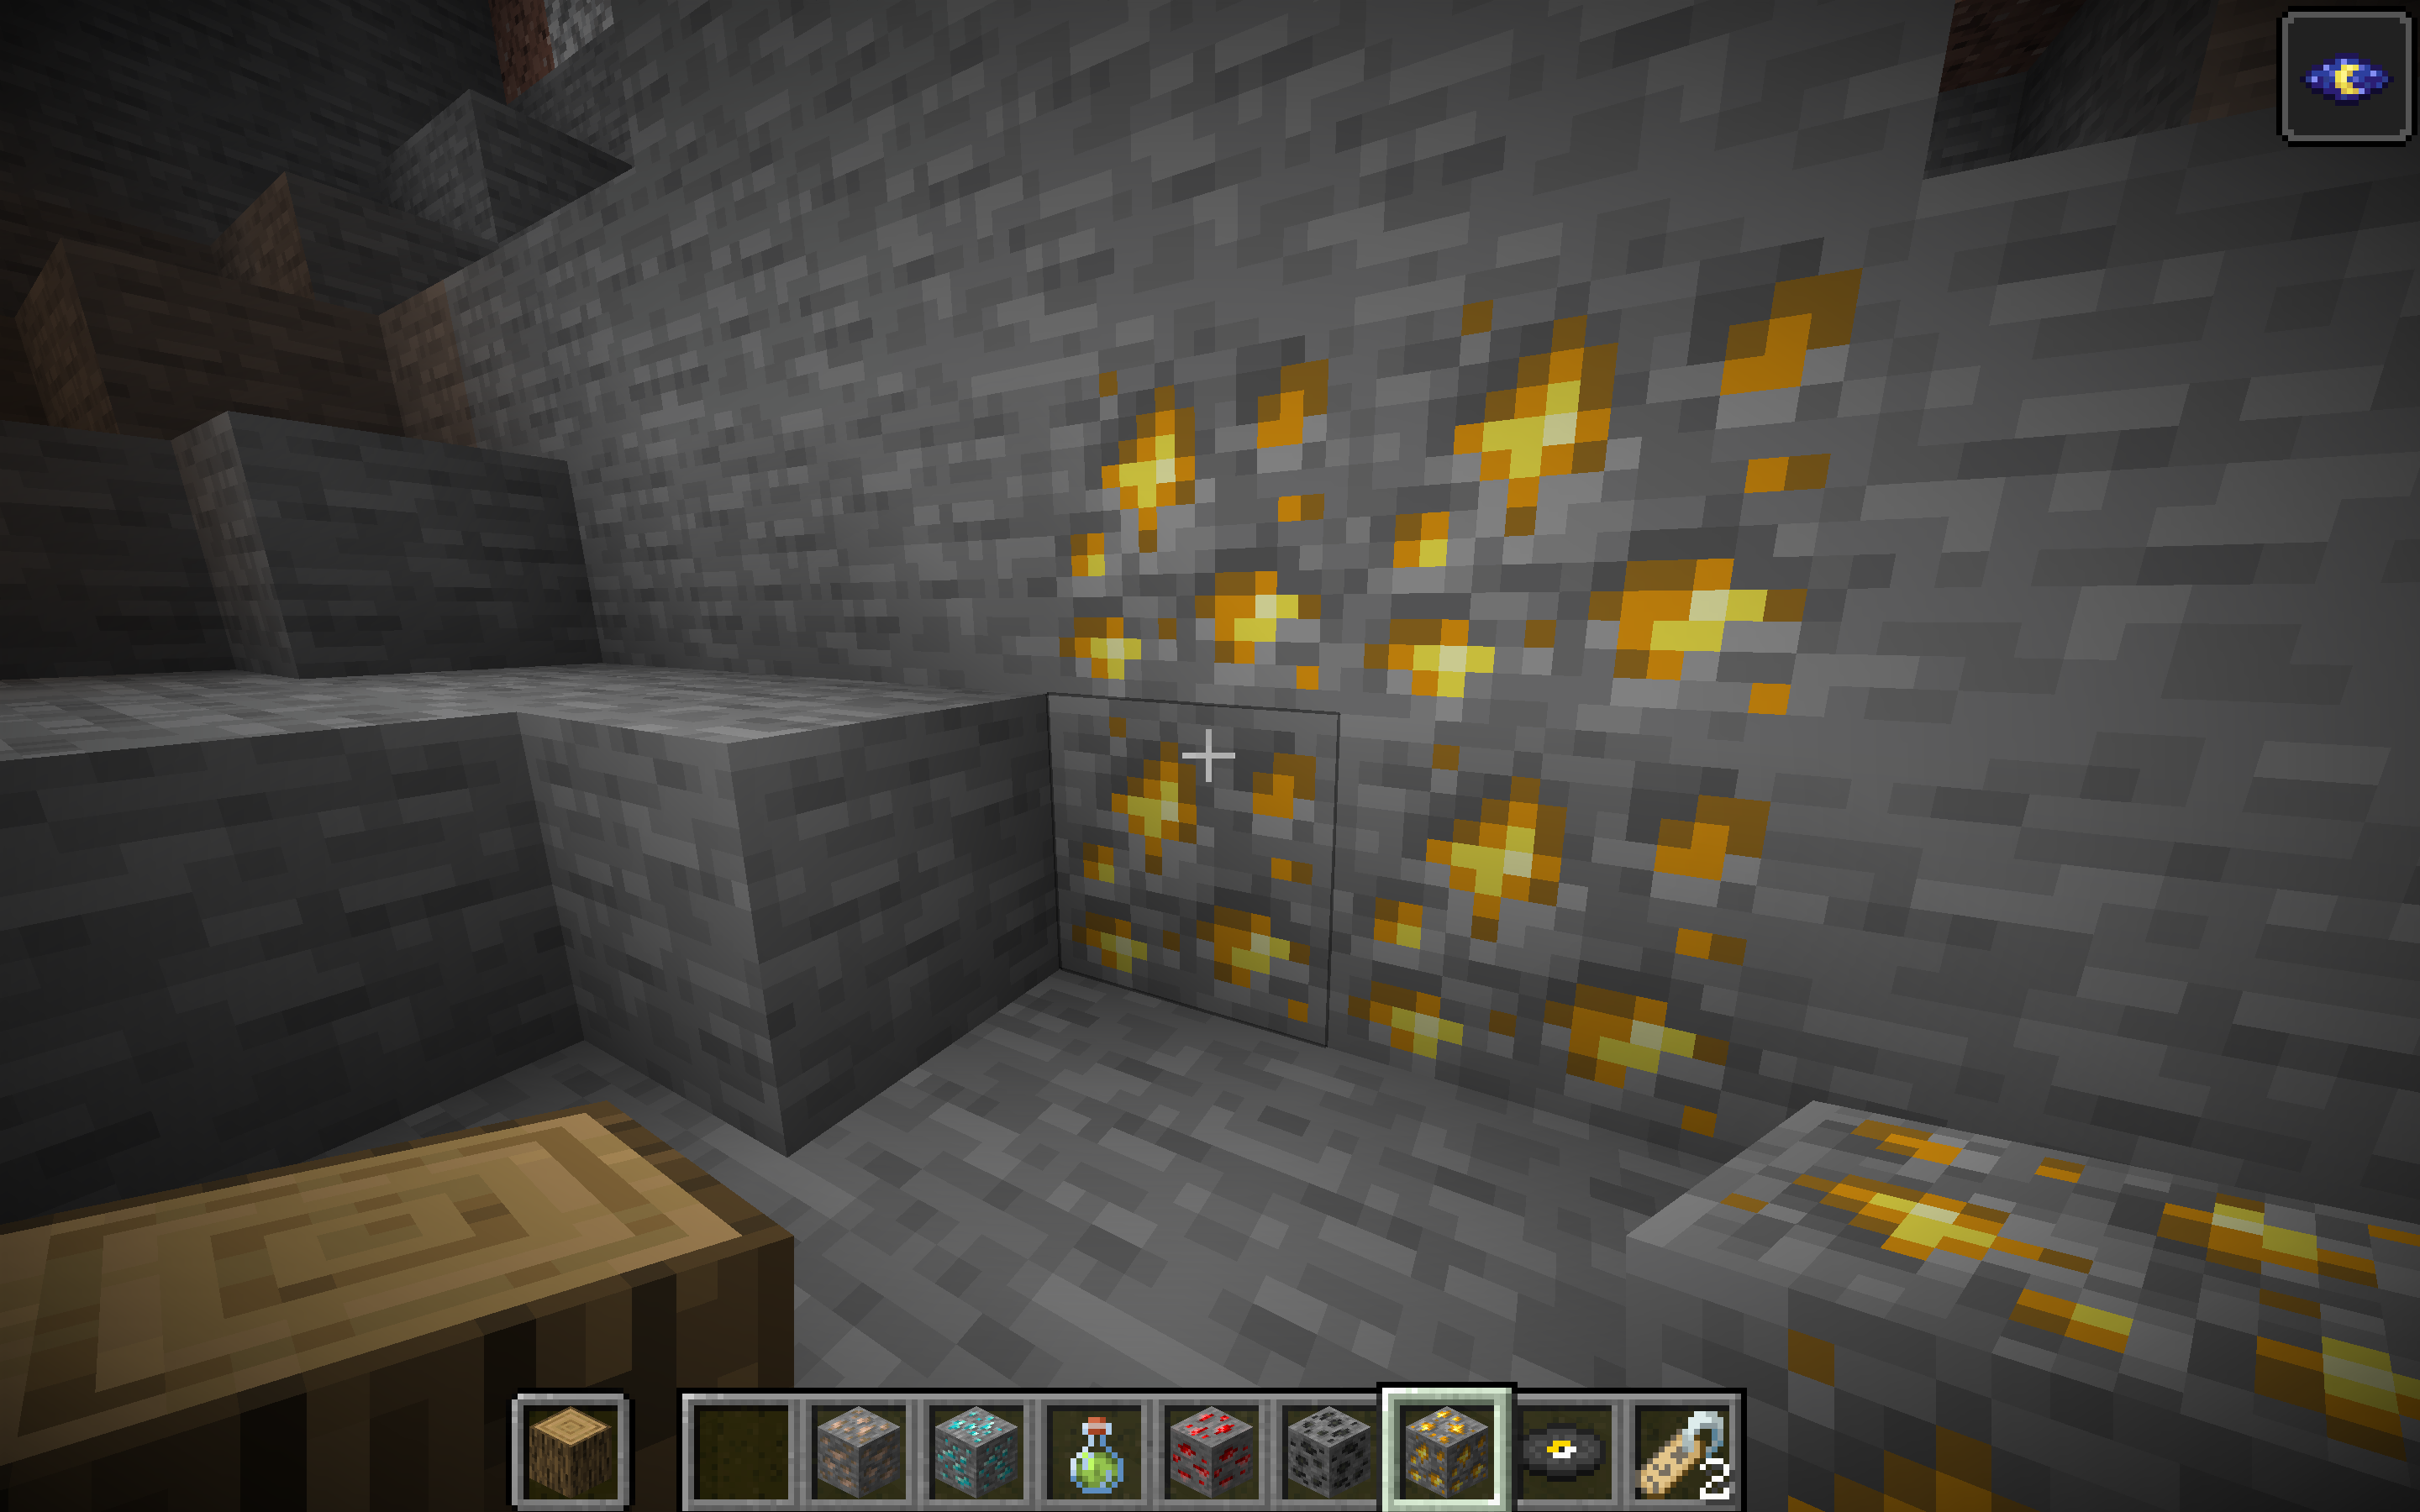gold: (847, 225, 1918, 1139)
